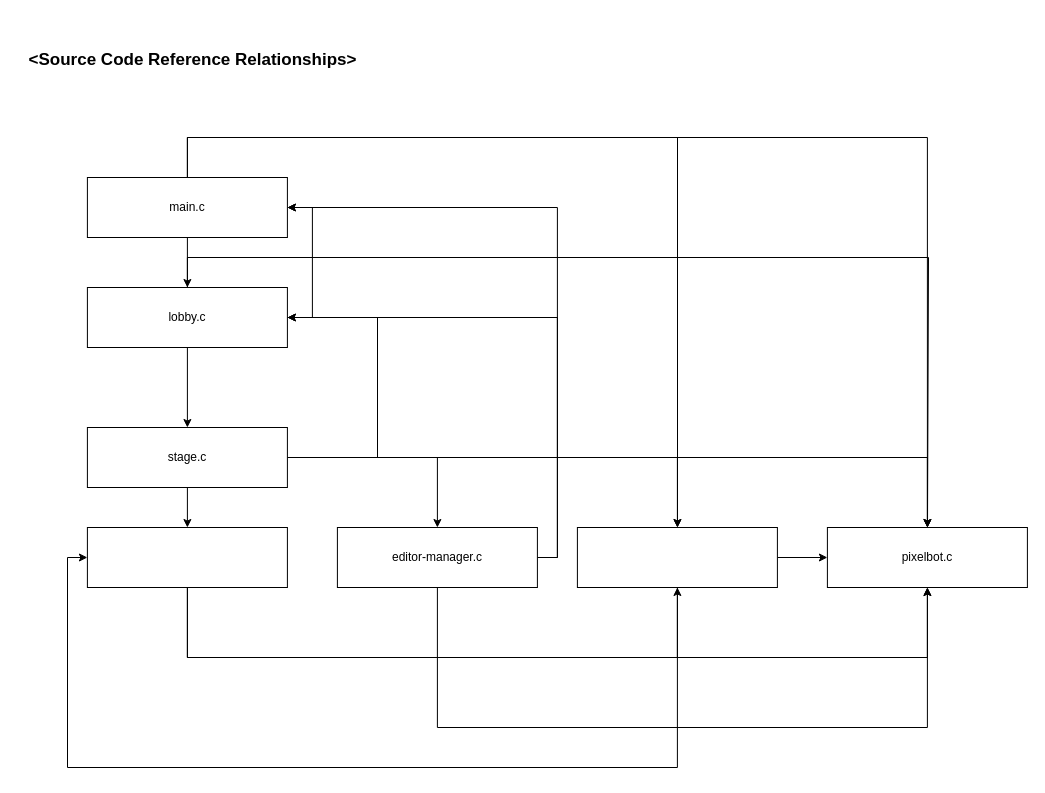
The diagram is 1045 pixels wide and 793 high, and some of its shapes have lost their labels. The centre of each missing label's shape, as x and y in pixels:
game-manager.c: point (676, 557)
stage-list.c: point (186, 557)
